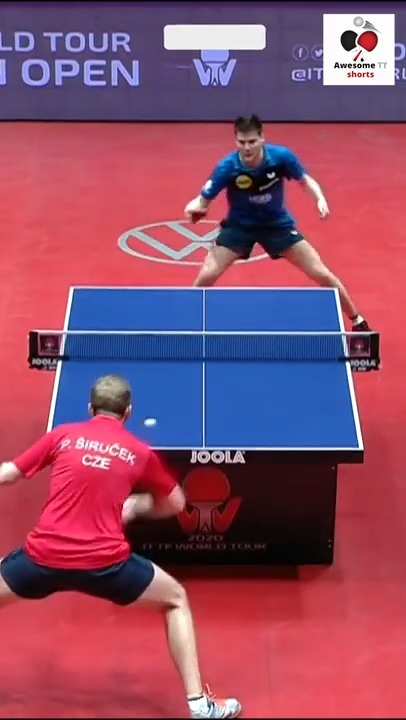Ball: (144, 416, 158, 432)
